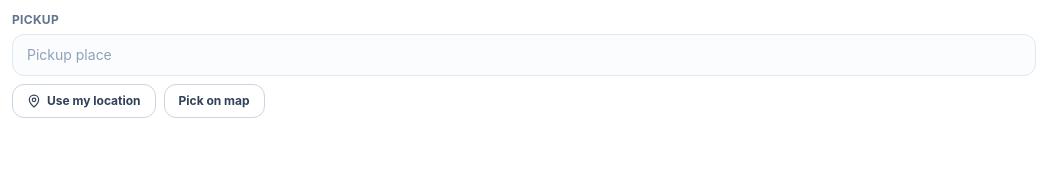
Test case: RideLocationField current location › shows the place name and the coordinates once the position is found
What coordinates should you click on to do the following:
click the button "Use my location"
I would click on:
 (84, 101)
Its box is [12, 84, 156, 118].
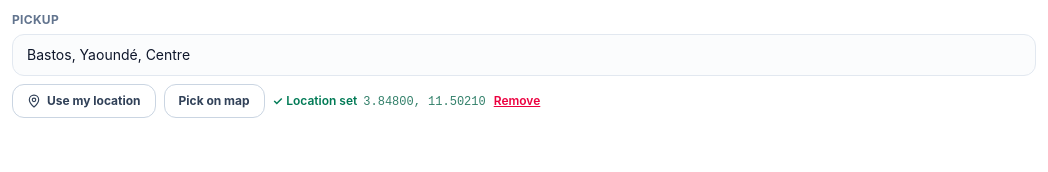
Now the field labelled "Pickup" holds "Bastos, Yaoundé, Centre", box [12, 34, 1036, 76]
Now the text "3.84800, 11.50210" is shown, box [363, 94, 486, 108]
